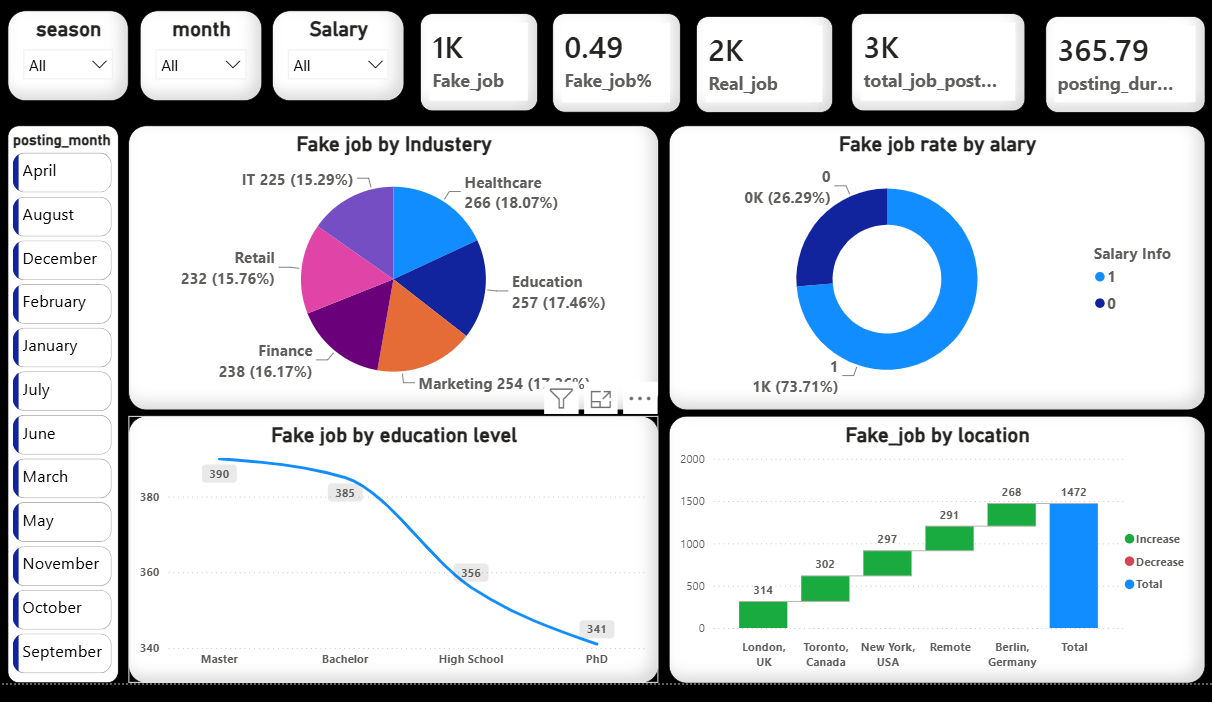

This screenshot's page, from the dashboard's own definition file:
{"tool":"powerbi","page":{"name":"Page 2","canvas":[1280,720],"ordinal":1},"visuals":[{"type":"advancedSlicerVisual","fields":{"Values":["job_postings.posting_month"]},"box":[9.1,133.2,116.6,587.3],"z":0},{"type":"cardVisual","fields":{"Data":["job_postings.Fake_job"]},"box":[443.5,15.1,124.1,102.9],"z":1000},{"type":"cardVisual","fields":{"Data":["job_postings.Fake_job%"]},"box":[582.8,15.1,134.7,104.5],"z":2000},{"type":"cardVisual","fields":{"Data":["job_postings.Real_job"]},"box":[734.2,18.2,143.8,101.4],"z":3000},{"type":"cardVisual","fields":{"Data":["job_postings.total_job_posting"]},"box":[897.7,15.1,183.2,102.9],"z":4000},{"type":"cardVisual","fields":{"Data":["job_postings.avg_posting_duration"]},"box":[1102,18.2,168,101.4],"z":5000},{"type":"pieChart","title":"Fake job by Industery","fields":{"Category":["job_postings.industry"],"Y":["job_postings.Fake_job"]},"box":[136.2,133.2,558.6,299.7],"z":6000},{"type":"donutChart","title":"Fake job rate by salary","fields":{"Y":["job_postings.Fake_job"],"Category":["job_postings.has_salary"]},"box":[705.4,133.2,564.6,299.7],"z":7000},{"type":"lineChart","title":"Fake job by education level","fields":{"Category":["job_postings.education_level"],"Y":["job_postings.Fake_job"]},"box":[136.2,439,558.6,281.6],"z":8000},{"type":"slicer","title":"month","fields":{"Values":["job_postings.posting_quarter"]},"box":[148.4,12.1,128.7,95.4],"z":9000},{"type":"slicer","title":"season","fields":{"Values":["job_postings.posting_season"]},"box":[9.1,12.1,127.2,95.4],"z":10000},{"type":"clusteredBarChart","title":"Top Locations by Fake Job Count","fields":{"Category":["job_postings.location"],"Y":["job_postings.Fake job"]},"box":[705.4,439,564.6,281.6],"z":11000},{"type":"slicer","title":"Salary","fields":{"Values":["job_postings.salary_range"]},"box":[287.6,12.1,139.3,95.4],"z":12000}]}

Visuals, with their boxes in screenshot pixels (x1, y1, x2, y2), scaled from the page's 1280x720 canvas onto the 1212x702 screenshot:
advancedSlicerVisual - job_postings.posting_month: <region>9, 130, 119, 701</region>
cardVisual - job_postings.Fake_job: <region>420, 15, 537, 115</region>
cardVisual - job_postings.Fake_job%: <region>552, 15, 679, 117</region>
cardVisual - job_postings.Real_job: <region>695, 18, 831, 117</region>
cardVisual - job_postings.total_job_posting: <region>850, 15, 1023, 115</region>
cardVisual - job_postings.avg_posting_duration: <region>1043, 18, 1203, 117</region>
"Fake job by Industery" pieChart: <region>129, 130, 658, 422</region>
"Fake job rate by salary" donutChart: <region>668, 130, 1203, 422</region>
"Fake job by education level" lineChart: <region>129, 428, 658, 701</region>
"month" slicer: <region>141, 12, 262, 105</region>
"season" slicer: <region>9, 12, 129, 105</region>
"Top Locations by Fake Job Count" clusteredBarChart: <region>668, 428, 1203, 701</region>
"Salary" slicer: <region>272, 12, 404, 105</region>
